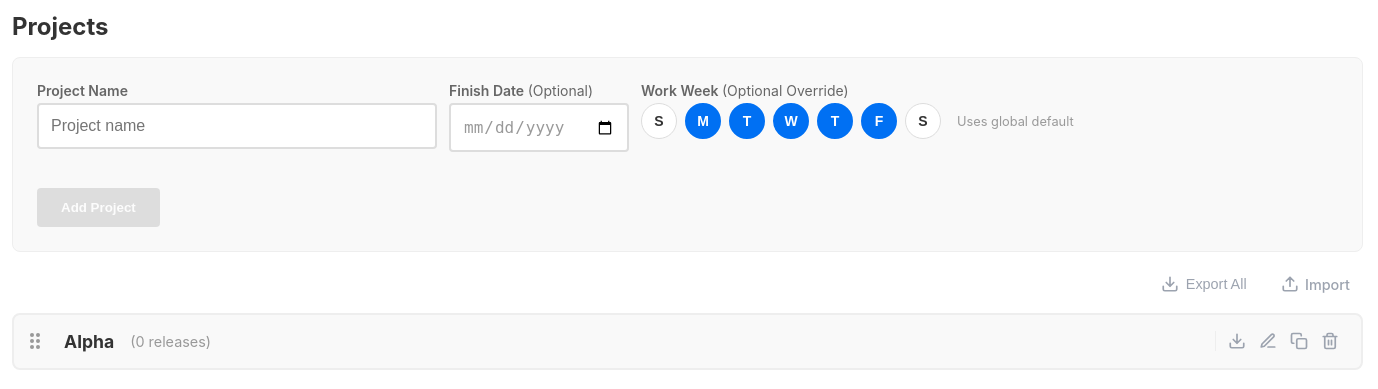
it: ProjectsTab › edit project › shows Update and Cancel buttons in edit mode
The width and height of the screenshot is (1378, 389).
Click the button named "Edit project" at point(1268, 341), box [1253, 327, 1283, 356]
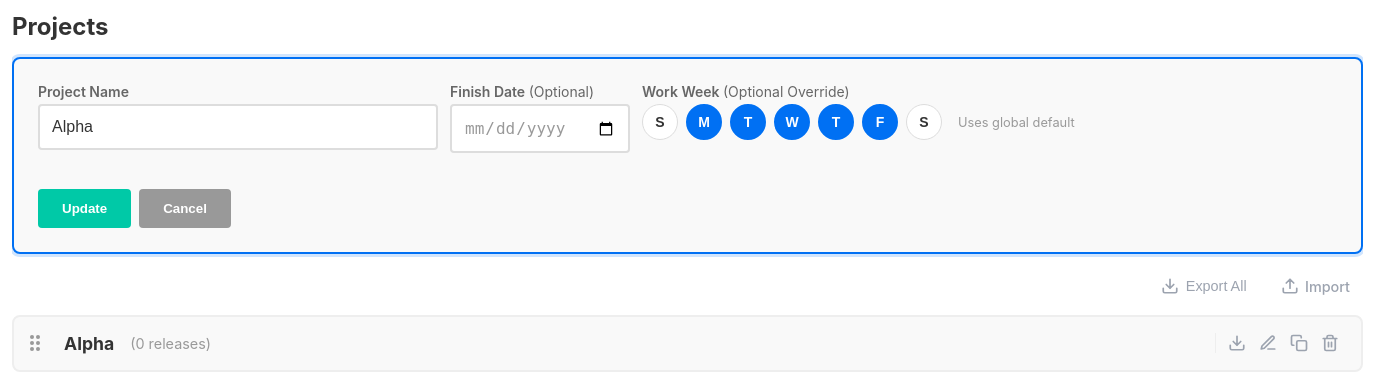
Expected: the button "Update" is shown, [38, 189, 131, 228]
Expected: the button "Cancel" is shown, [139, 189, 231, 228]
